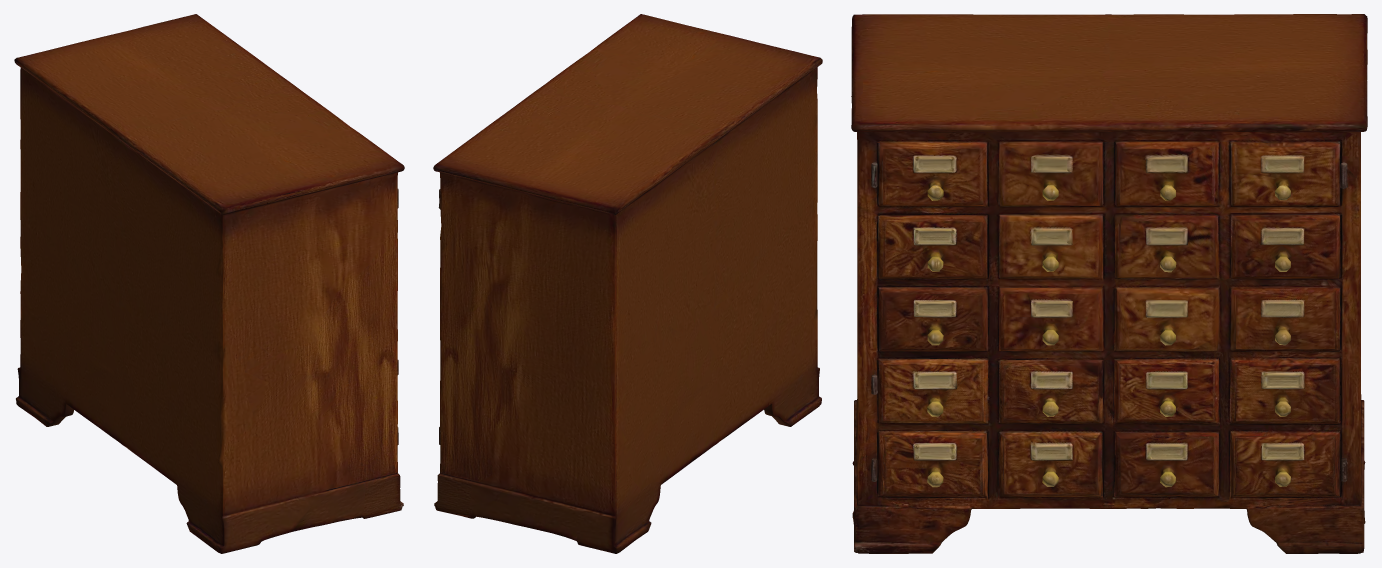
File: cabinet.glb
3 views of the same model, side by side, from view 1: azimuth 30°, elevation 25°; view 2: azimuth 150°, elevation 25°; view 3: azimuth 270°, elevation 25° (orthographic). The views are drawn at different scales.
Parts seen in each view (by area): view 1: tripo_node_8567d317-b2b4-437c-8c0d-2a771719e850; view 2: tripo_node_8567d317-b2b4-437c-8c0d-2a771719e850; view 3: tripo_node_8567d317-b2b4-437c-8c0d-2a771719e850.
Part boxes in pixels (<box>): tripo_node_8567d317-b2b4-437c-8c0d-2a771719e850: <box>14,14,404,553</box>; tripo_node_8567d317-b2b4-437c-8c0d-2a771719e850: <box>433,14,822,553</box>; tripo_node_8567d317-b2b4-437c-8c0d-2a771719e850: <box>851,14,1367,553</box>.
Bounding box in the file's own units: 0.5978 × 1 × 1.08.
1 material, 1 textured.
